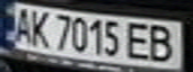0: (69, 14, 87, 53)
1: (84, 16, 106, 56)
5: (103, 17, 127, 59)
7: (48, 11, 72, 52)
A: (9, 4, 36, 45)
B: (145, 21, 184, 63)
E: (124, 20, 154, 61)
K: (24, 7, 51, 47)
